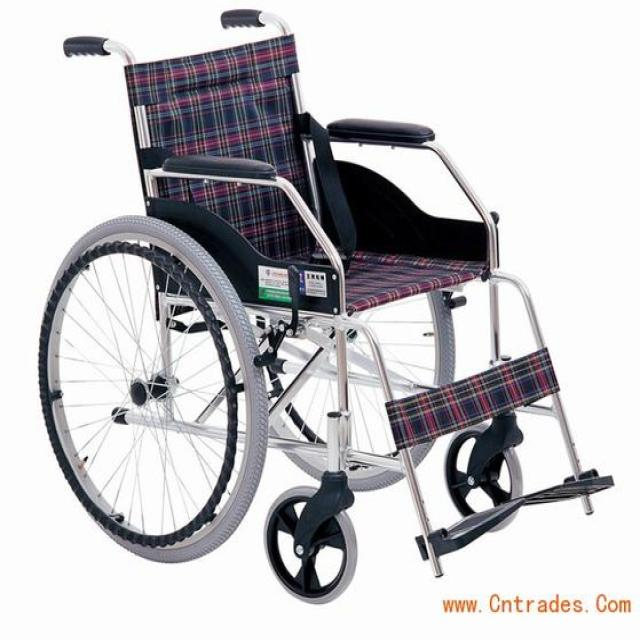wheelchairs: (24, 6, 613, 590)
